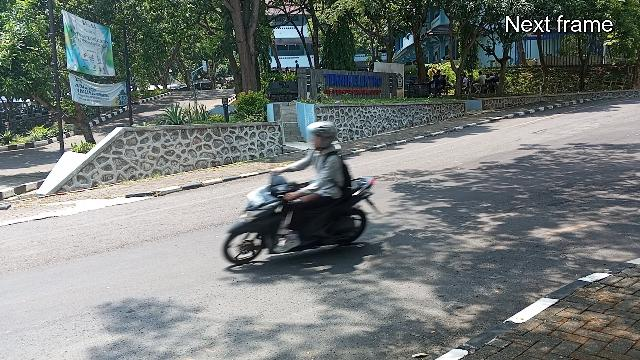helm: (308, 123, 337, 150)
motor: (225, 177, 382, 268)
